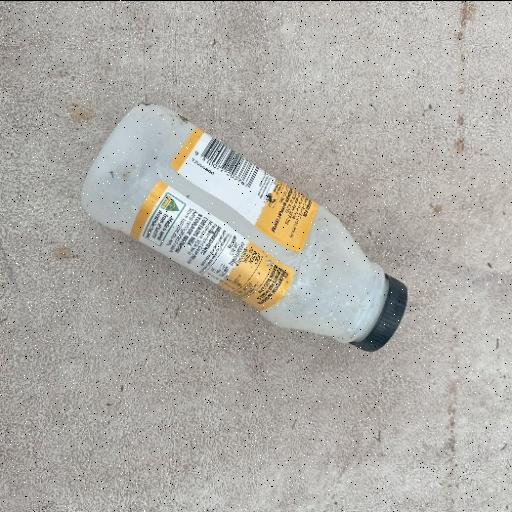Plastic: (78, 100, 408, 354)
